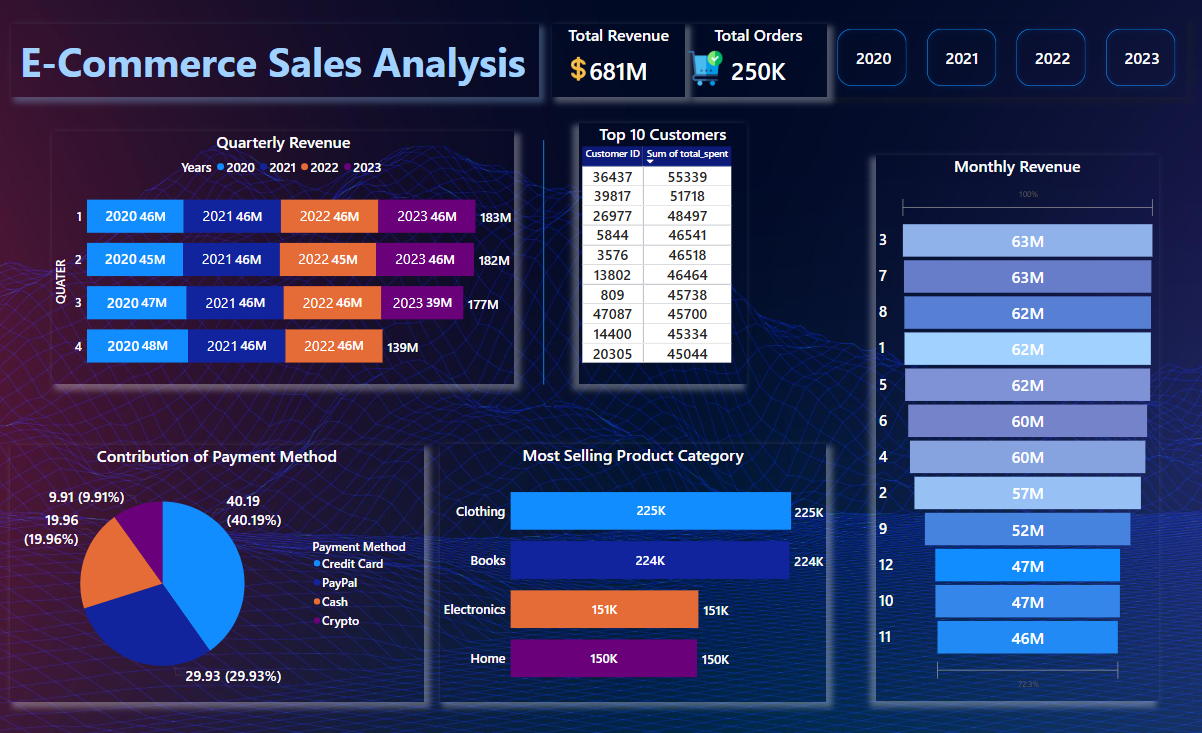

Layout of this report page (visuals, bound fields, positions):
{"tool":"powerbi","page":{"name":"Page 1","canvas":[2020,1250],"ordinal":0},"visuals":[{"type":"barChart","title":"Quarterly Revenue","fields":{"Category":["data-revenue_trend.quarter"],"Y":["Sum(data-revenue_trend.total_spent)"],"Series":["data-revenue_trend.years"]},"box":[25.1,213.6,699.6,446.1],"z":0},{"type":"tableEx","title":"Top 10 Customers","fields":{"Values":["top_10customers.Customer ID","Sum(top_10customers.total_spent)"]},"box":[772.9,213.6,259.7,446.1],"z":1000},{"type":"pieChart","title":"People Most preferred Payment Method","fields":{"Category":["contribution_payment_method.Payment Method"],"Y":["Sum(contribution_payment_method.pecentage_share)"]},"box":[18.9,707.9,913.2,441.9],"z":3000},{"type":"barChart","title":"What is Most Selling Product Category","fields":{"Category":["product-most_purchase.Product Category"],"Y":["Sum(product-most_purchase.total_qantity)"],"Series":["product-most_purchase.dense_rank"]},"box":[932.1,707.9,1087.1,441.9],"z":4000},{"type":"shape","box":[0,0,2020,194],"z":5000},{"type":"card","title":"Total Revenue","fields":{"Values":["Sum(monthly_revenue_trend.sum)"]},"box":[921.6,41.9,222,121.5],"z":6000},{"type":"card","title":"Total Orders","fields":{"Values":["Sum(contribution_payment_method.total_orders)"]},"box":[1133.1,41.9,230.4,121.5],"z":7000},{"type":"shape","box":[14.7,48.2,906.9,108.9],"z":8000},{"type":"image","box":[932.1,75.4,48.2,88],"z":9000},{"type":"image","box":[1143.6,83.8,58.6,69.1],"z":10000},{"type":"card","title":"Total Returns","fields":{"Values":["Sum(total_returns.total_returns)"]},"box":[1346.8,41.9,175.9,119.4],"z":11000},{"type":"lineChart","title":"What is  Revenue Yearly","fields":{"Category":["revenue by year.year"],"Y":["Sum(revenue by year.revenue)"]},"box":[1099.6,230.4,888.1,393.8],"z":12000},{"type":"slicer","fields":{"Values":["revenue by year.year"]},"box":[1522.7,41.9,496.4,111],"z":13000},{"type":"shape","box":[73.3,599,1872.5,171.8],"z":13001}]}

Visuals, with their boxes in screenshot pixels (x1, y1, x2, y2), scaled from the page's 2020x1250 canvas onto the 1202x733 screenshot:
"Quarterly Revenue" barChart: (left=15, top=125, right=431, bottom=387)
"Top 10 Customers" tableEx: (left=460, top=125, right=614, bottom=387)
"People Most preferred Payment Method" pieChart: (left=11, top=415, right=555, bottom=674)
"What is Most Selling Product Category" barChart: (left=555, top=415, right=1201, bottom=674)
shape: (left=0, top=0, right=1201, bottom=114)
"Total Revenue" card: (left=548, top=25, right=680, bottom=96)
"Total Orders" card: (left=674, top=25, right=811, bottom=96)
shape: (left=9, top=28, right=548, bottom=92)
image: (left=555, top=44, right=583, bottom=96)
image: (left=680, top=49, right=715, bottom=90)
"Total Returns" card: (left=801, top=25, right=906, bottom=95)
"What is  Revenue Yearly" lineChart: (left=654, top=135, right=1183, bottom=366)
slicer - revenue by year.year: (left=906, top=25, right=1201, bottom=90)
shape: (left=44, top=351, right=1158, bottom=452)
